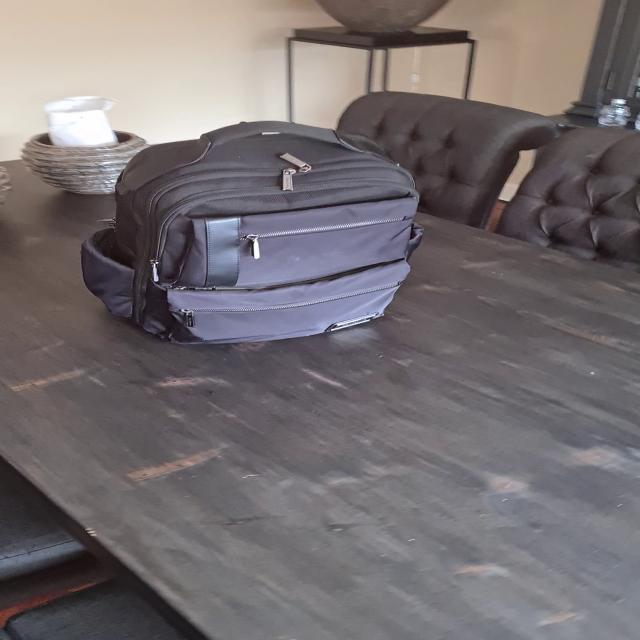backpack: (65, 100, 440, 350)
